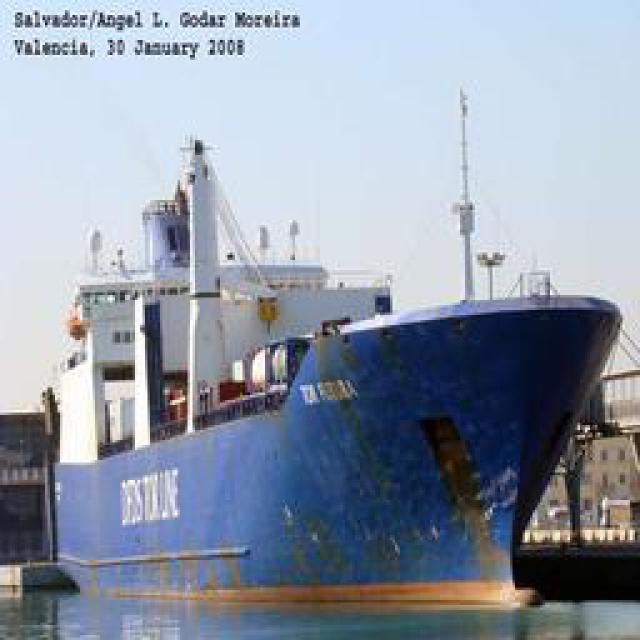Ship: (41, 172, 629, 610)
